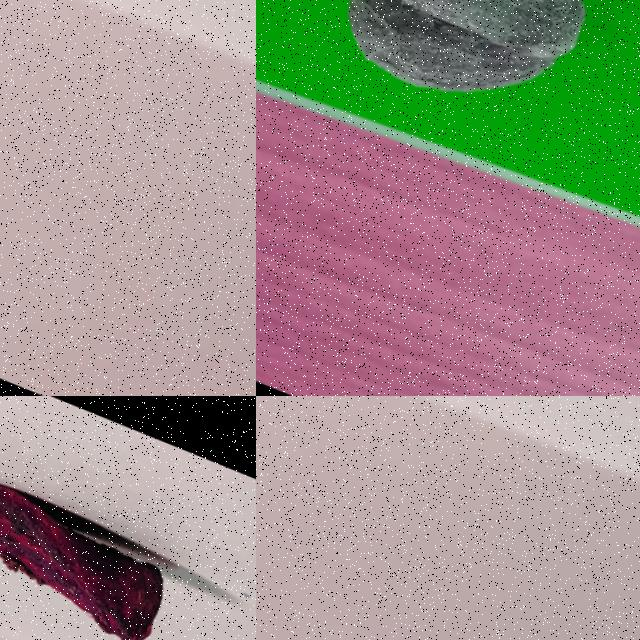Agglomerated_cocoabeans: (256, 0, 639, 190)
Flat_cocoabeans: (0, 396, 248, 639), (284, 396, 639, 464), (0, 0, 255, 94)
